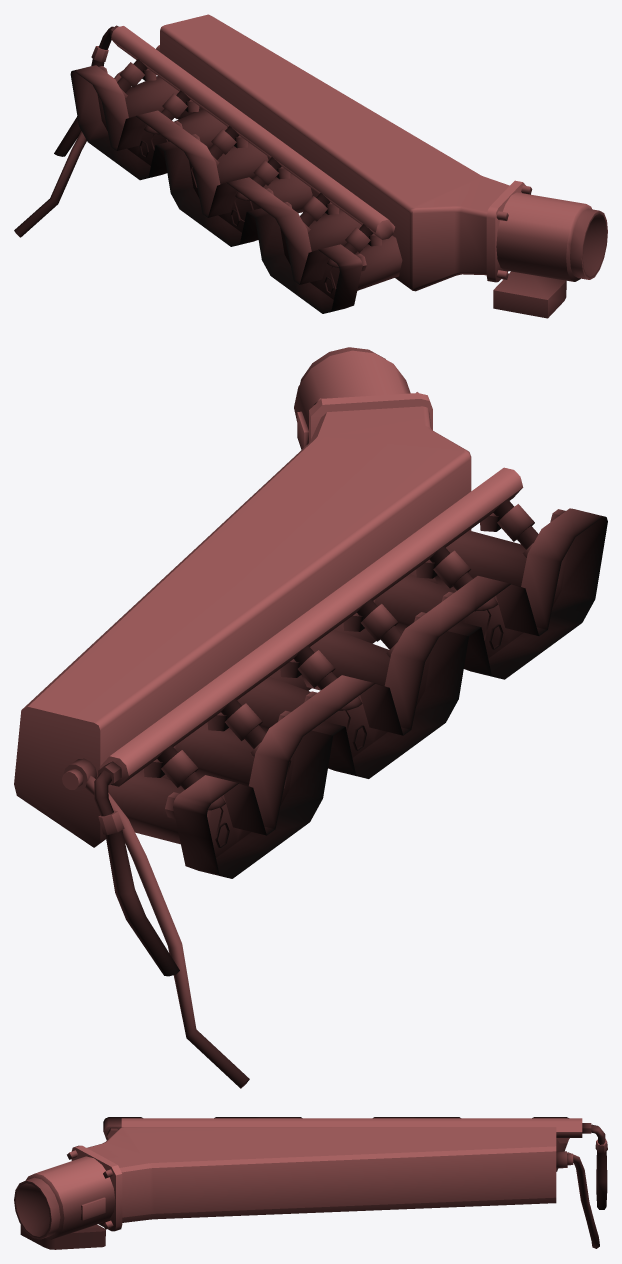
Rendered from JZ_IntakeManifoldBlown2.fbx.
3 views of the same model, one above another, from view 1: azimuth 30°, elevation 25°; view 2: azimuth 150°, elevation 25°; view 3: azimuth 270°, elevation 25° (orthographic). The views are drawn at different scales.
Parts seen in each view (by area): view 1: IntakeManifoldBlown2; view 2: IntakeManifoldBlown2; view 3: IntakeManifoldBlown2.
Boxes of the visible parts, left/top/right/bottom form: IntakeManifoldBlown2: left=14, top=14, right=607, bottom=318; IntakeManifoldBlown2: left=14, top=347, right=607, bottom=1088; IntakeManifoldBlown2: left=14, top=1117, right=607, bottom=1249.
Bounding box in the file's own units: 42.11 × 29.33 × 88.89.
